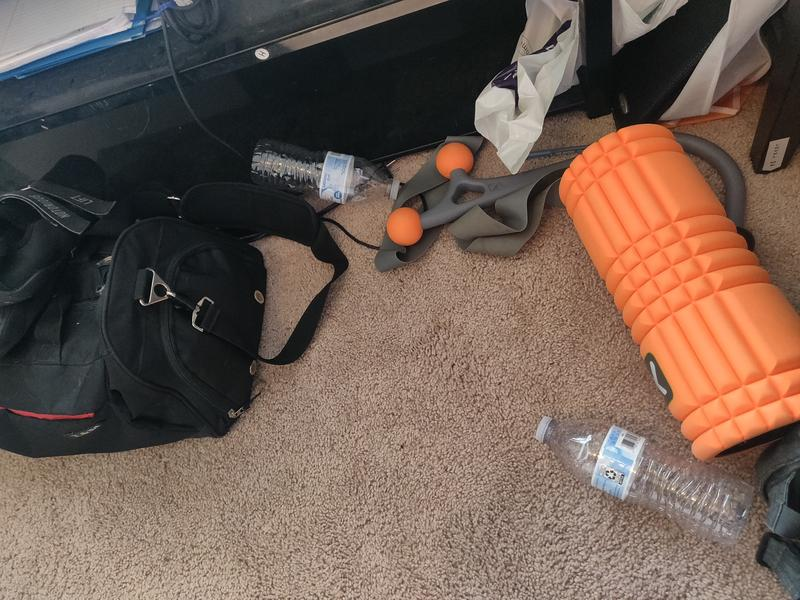bottle: (534, 416, 756, 547), (250, 137, 399, 205)
